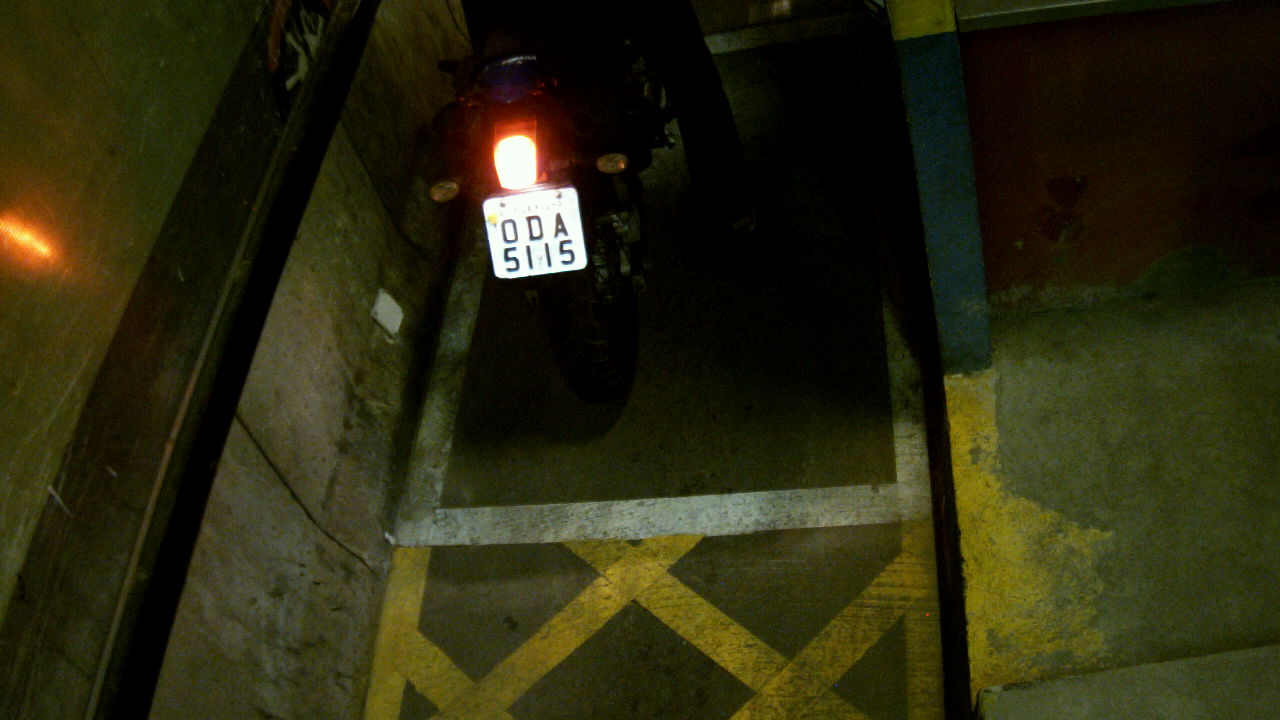placa: (482, 186, 590, 280)
